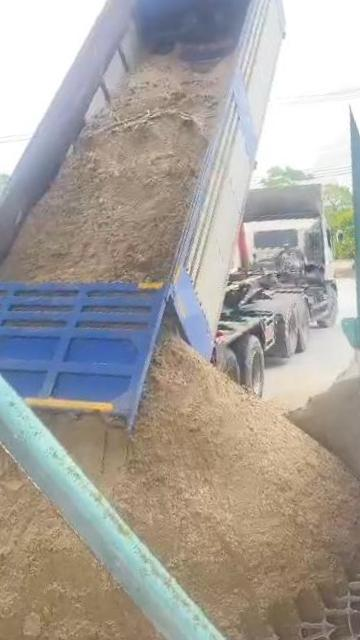sand: (46, 341, 360, 640), (0, 56, 231, 282), (0, 424, 166, 640), (288, 362, 360, 488)
